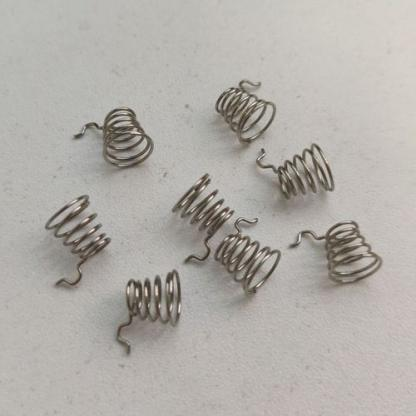FOD: (42, 190, 113, 292), (114, 266, 185, 356), (169, 171, 237, 264), (214, 215, 284, 300), (69, 104, 156, 170), (254, 140, 338, 202), (214, 78, 279, 148)
